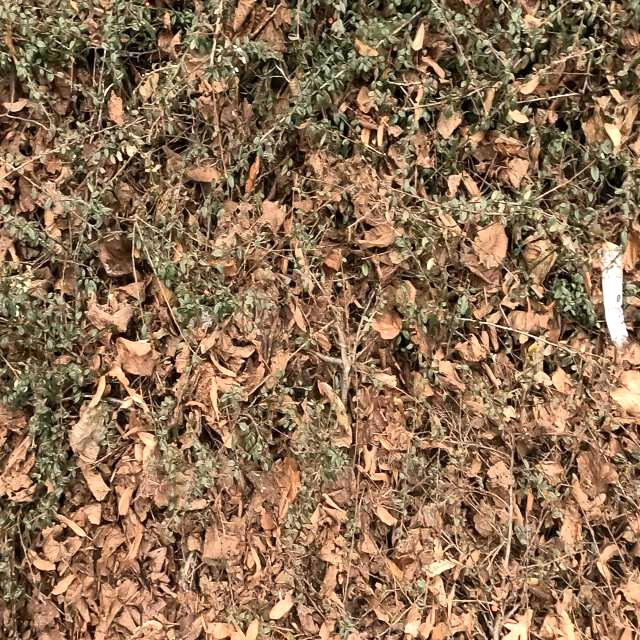Plastic: (600, 248, 630, 348)
